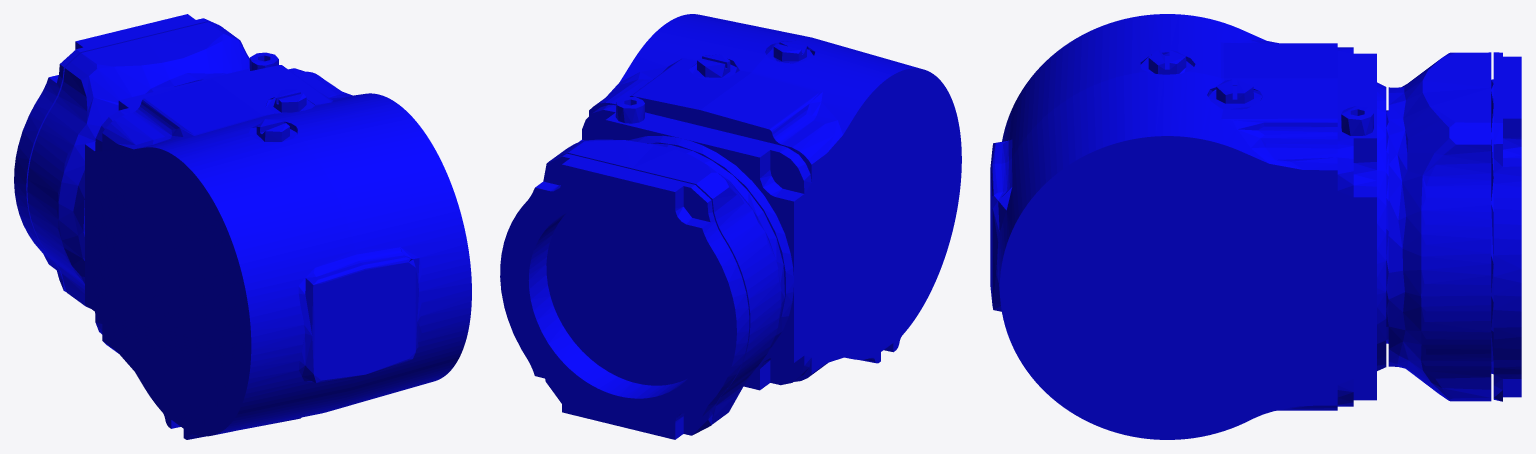
File: yaskawa_link_5_b_visual_vis_1.dae
3 renders of one model, left to right at view 1: azimuth 30°, elevation 25°; view 2: azimuth 150°, elevation 25°; view 3: azimuth 270°, elevation 25°, orthographic. The views are drawn at different scales.
Visible parts, largest first — view 1: node; view 2: node; view 3: node.
Part boxes in pixels (x1,y1,x2,y2): node: [14, 14, 471, 439]; node: [500, 14, 961, 439]; node: [990, 14, 1521, 439].
Size of the model in its own units: 0.066 by 0.0776 by 0.114.
